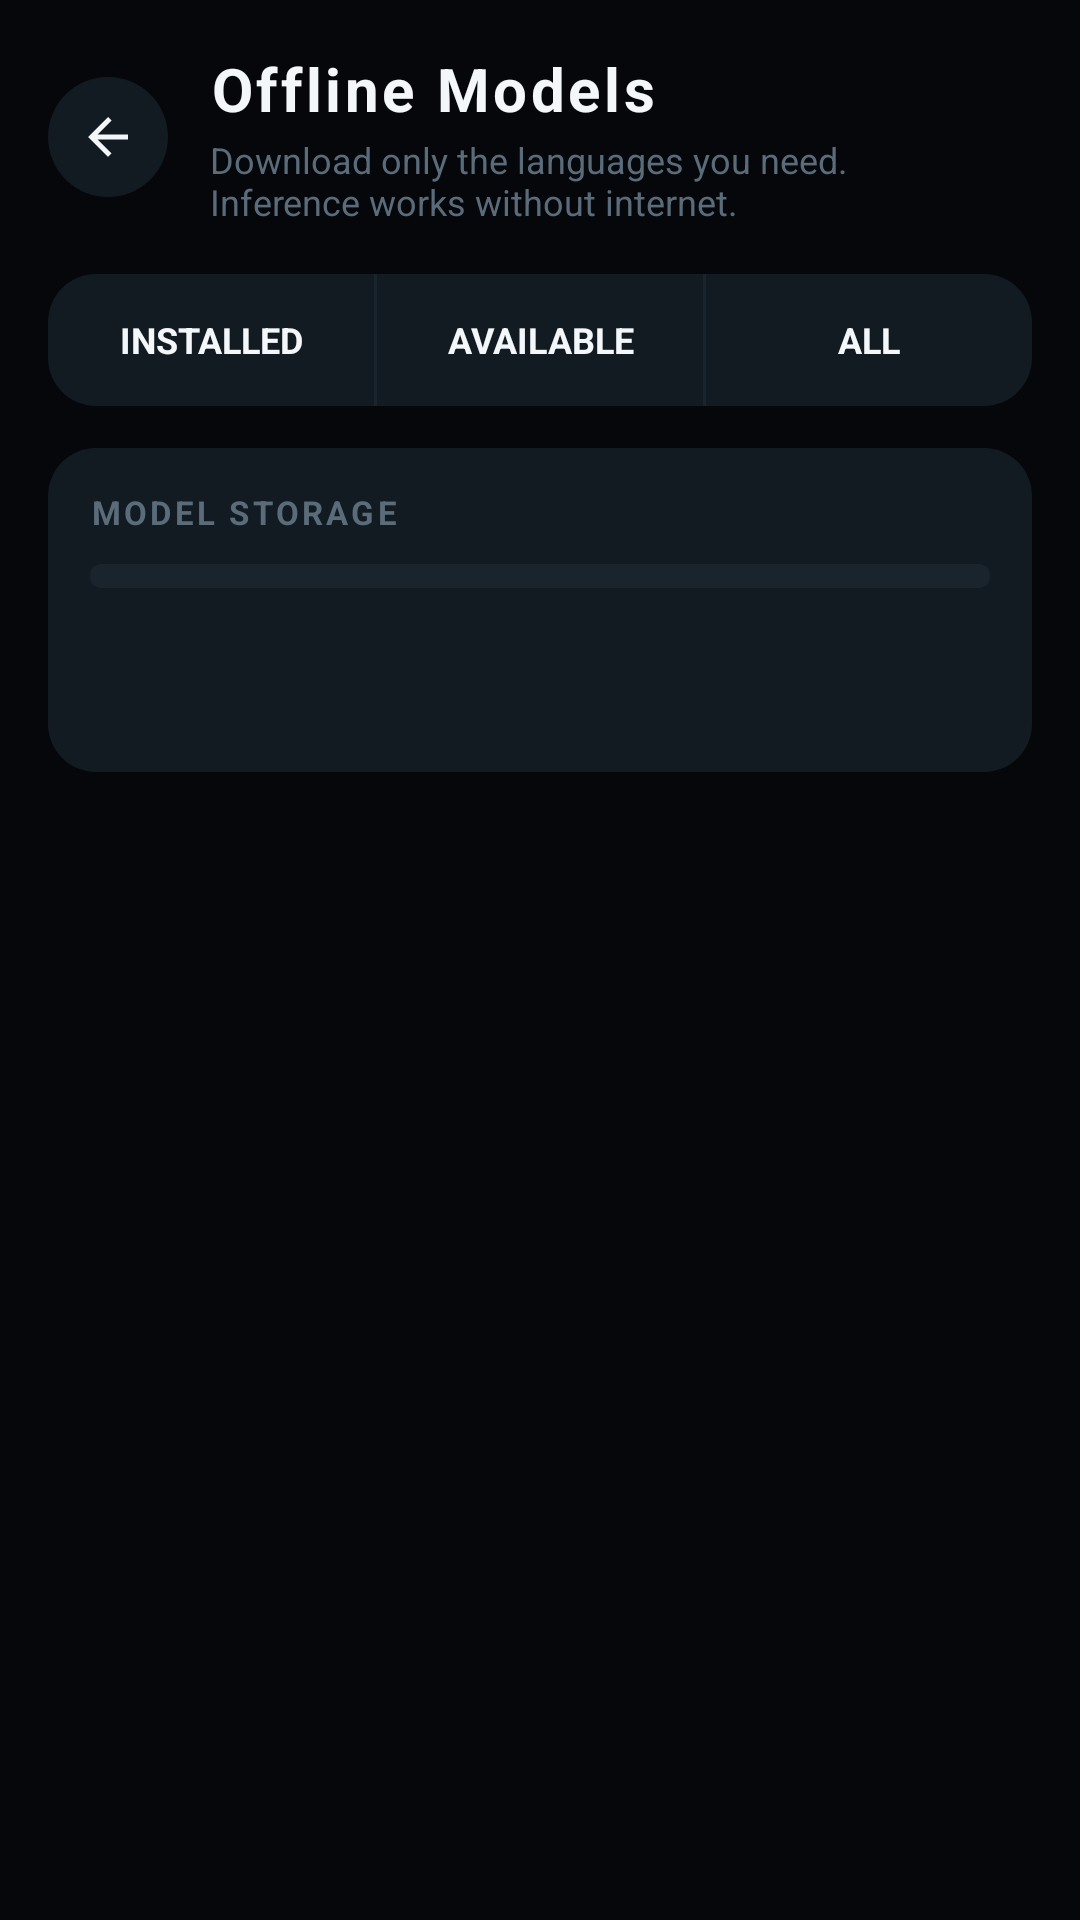

Point at icon controls on the screen. Image size 1080*1920, points as [x,y].
back: [108,137]
